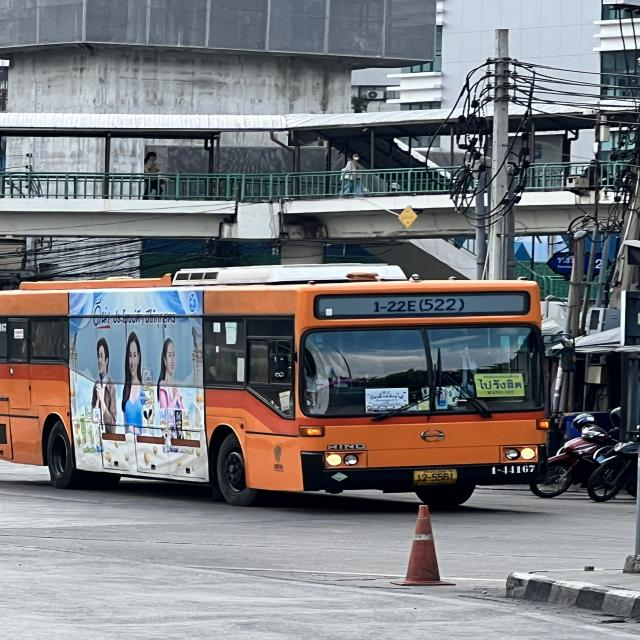BMTA-bus: (0, 265, 553, 512)
Bus Line Number: (368, 296, 470, 316)
Bus Side Number: (489, 462, 538, 476)
Destination Sign: (475, 373, 525, 396)
